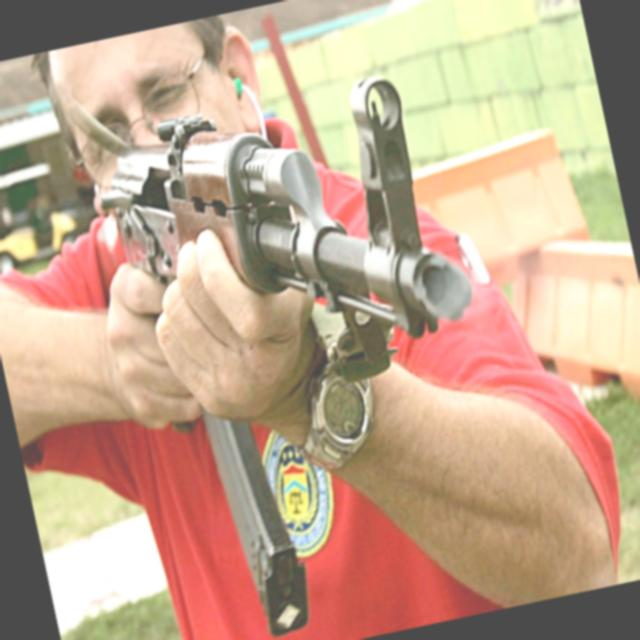ak: (83, 56, 521, 640)
